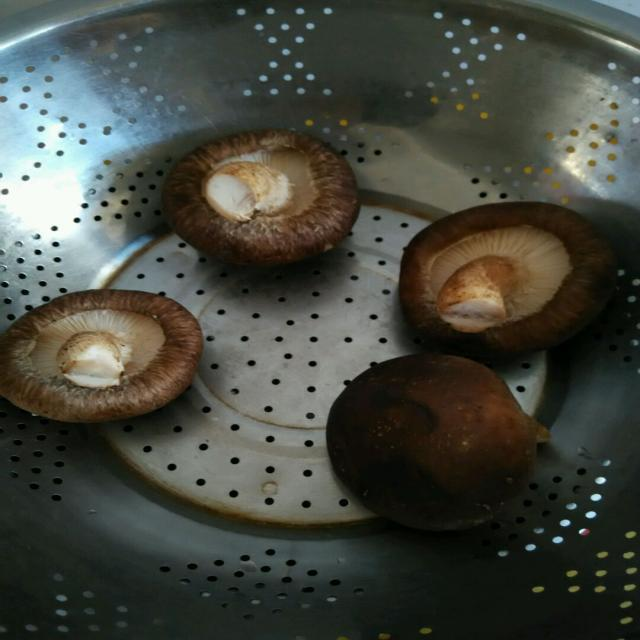Lentinus edodes: (324, 353, 554, 528), (394, 199, 609, 350), (0, 289, 207, 423), (172, 129, 360, 254)
